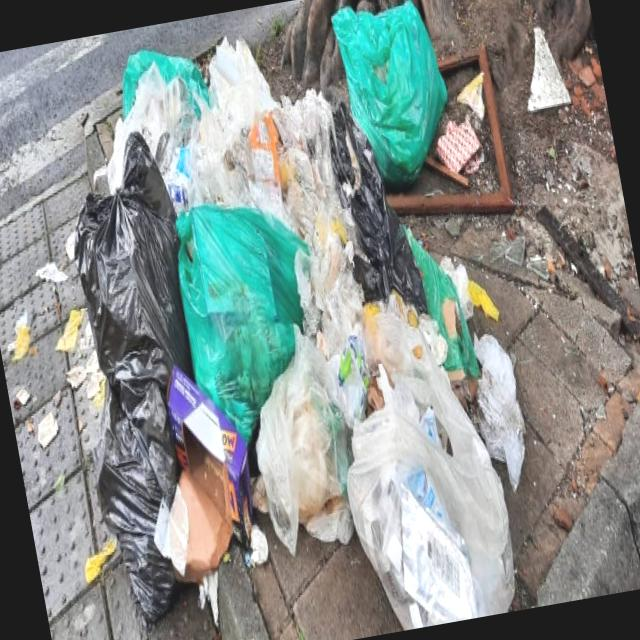garbage: (19, 0, 564, 640)
